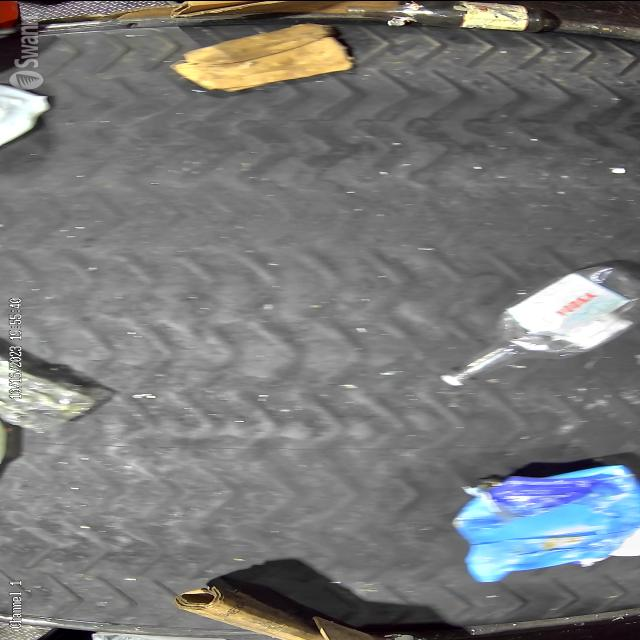non_white_jug: (440, 460, 640, 590)
